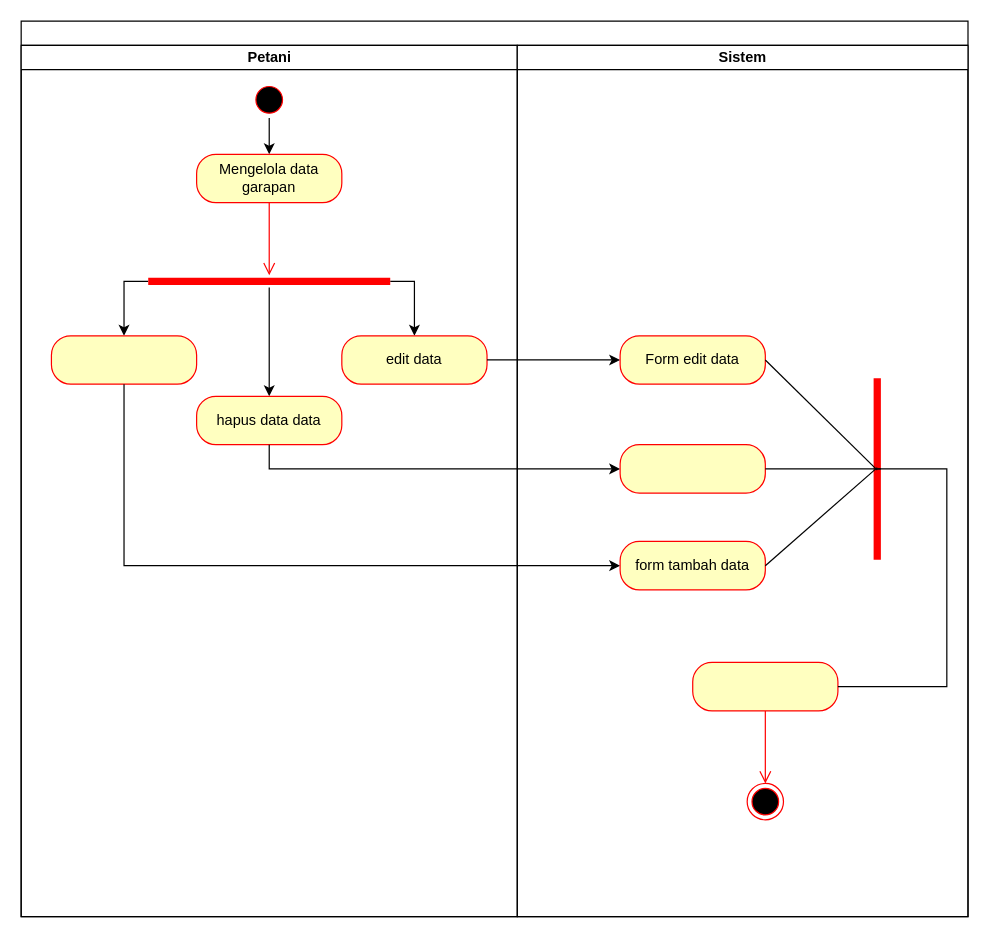
Some shapes in this 990 by 938 pixel diagram are drawn without their labels. Here are the shapes that lost their labels. From the top down, the box of each, then its label:
(50, 335, 197, 384): Tambah data
(619, 443, 765, 493): form hapus data
(692, 661, 838, 711): simpan data
